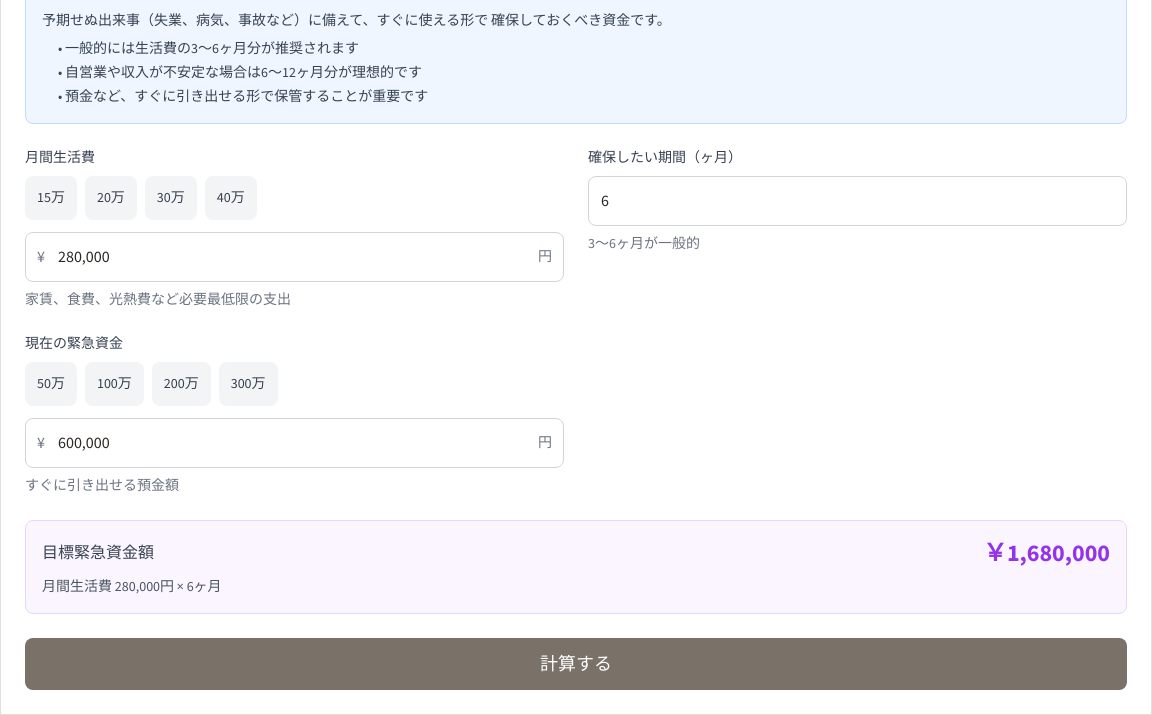
Test: EmergencyFundCalculator › 結果表示 › 現在カバーできる期間と目標期間が表示される
(page scrolled)
Click the button "計算する". click: [576, 664]
box: [25,638,1127,690]
(page scrolled)
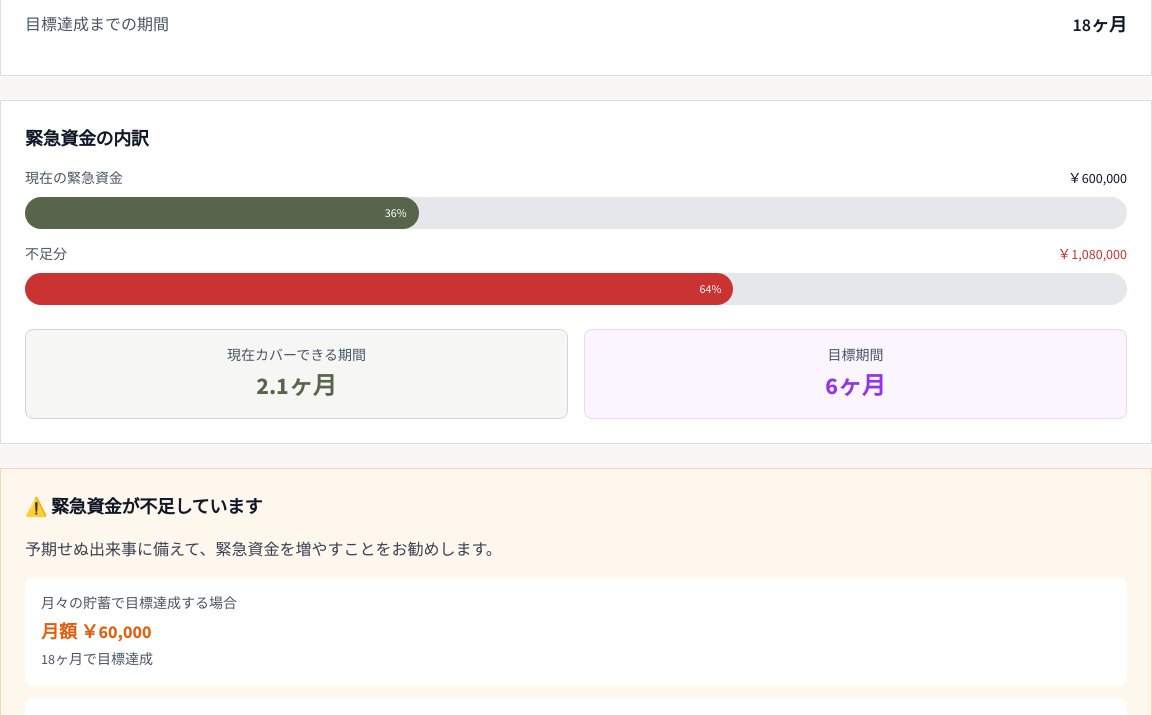
Result: the text "現在カバーできる期間" is shown at [227,346,366,365]
Result: the text "目標期間" is shown at [828,346,884,365]
